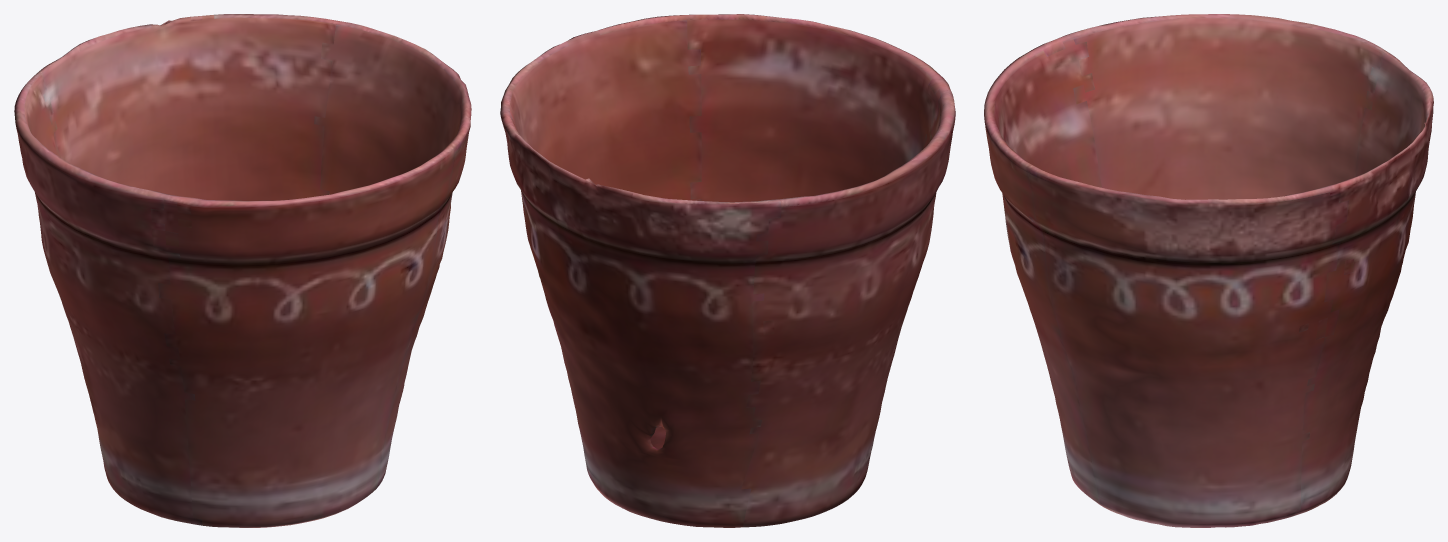
Rendered from tc-mc-flower_pot.glb.
3 views of the same model, side by side, from view 1: azimuth 30°, elevation 25°; view 2: azimuth 150°, elevation 25°; view 3: azimuth 270°, elevation 25° (orthographic).
Visible parts, largest first — view 1: Object_2; view 2: Object_2; view 3: Object_2.
Part boxes in pixels (x1=…): Object_2: x1=14, y1=14, x2=471, y2=527; Object_2: x1=500, y1=14, x2=955, y2=527; Object_2: x1=984, y1=14, x2=1433, y2=527.
Size of the model in its own units: 0.1736 by 0.1552 by 0.1722.
Materials: 1 (1 with a texture image).
